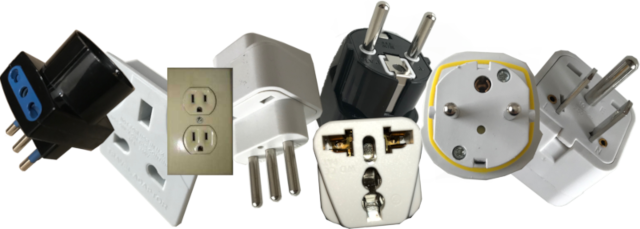Three_eye_plug: (508, 46, 640, 217), (1, 27, 127, 182), (311, 105, 425, 229), (163, 64, 236, 179)
